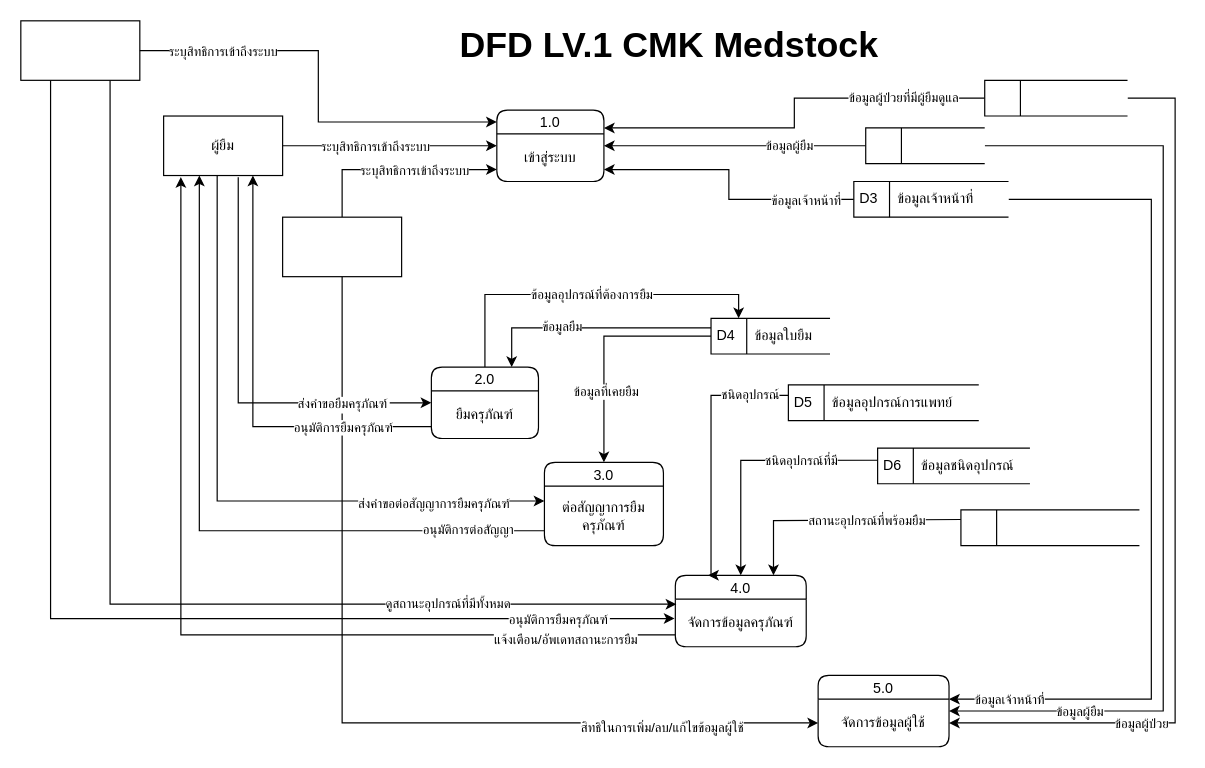
Image size: 1205x768. Some labels were removed from this diagram. Here are the shapes that lost their labels. From the top down, the centre of each, then its label:
At point 80,50: "เจ้าหน้าที่".
At point 1056,97: "D1 ข้อมูลผู้ป่วย".
At point 925,145: "D2 ข้อมูลผู้ยืม".
At point 341,246: "ผู้ดูแลระบบ".
At point 1049,527: "D7 ข้อมูลสถานะอุปกรณ์".
